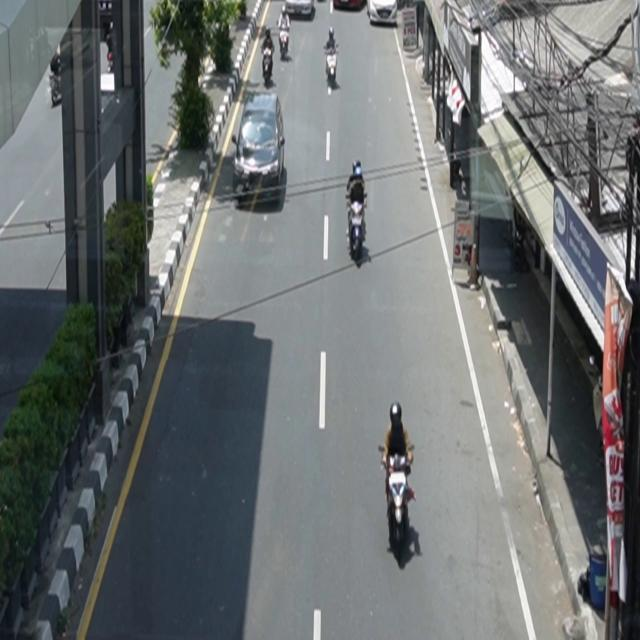car: (232, 92, 286, 191), (368, 1, 398, 26), (286, 1, 315, 18)
